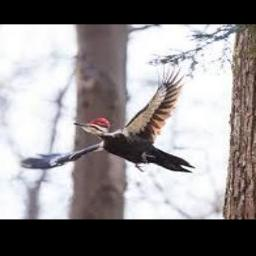Woodpecker: (20, 65, 195, 172)
